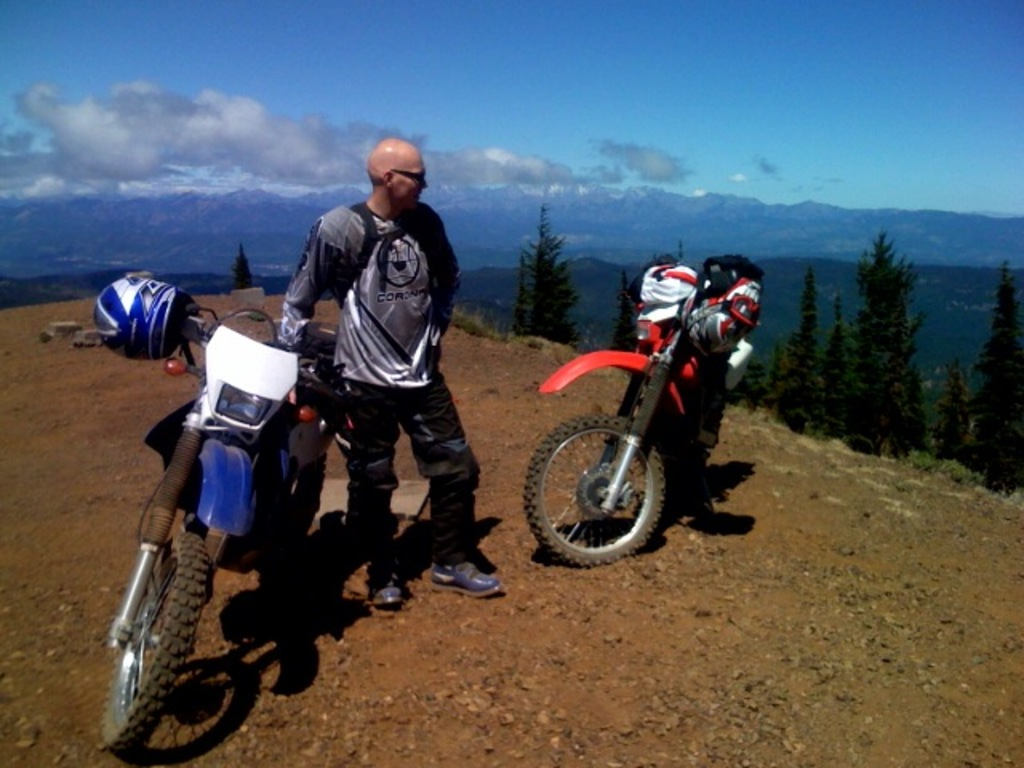Person: (275, 138, 502, 608)
